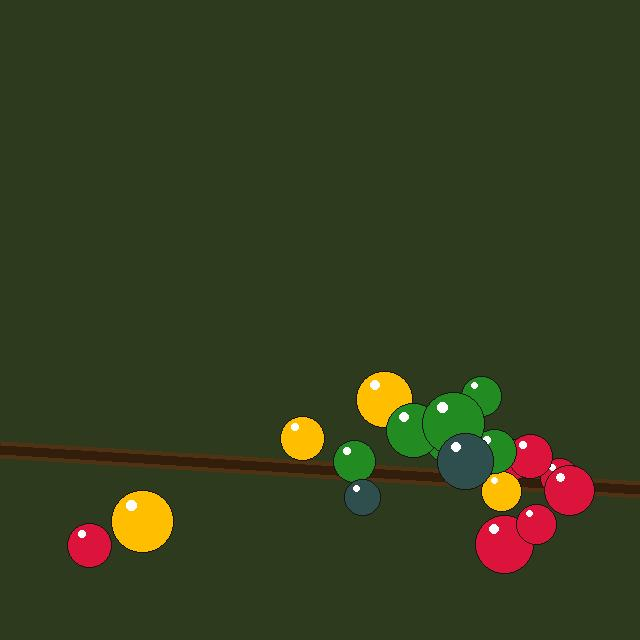Dry_Damaged: (437, 433, 493, 489), (344, 479, 380, 515)
Ripe: (475, 515, 533, 573), (544, 465, 594, 515), (67, 523, 111, 567), (508, 434, 552, 478), (494, 439, 534, 479), (516, 504, 556, 544), (540, 458, 578, 496)
Ripening: (111, 490, 173, 552), (356, 371, 412, 427), (280, 416, 324, 460), (481, 471, 521, 511)
Unripe: (422, 392, 484, 454), (424, 410, 478, 464), (386, 403, 440, 457), (472, 429, 516, 473), (333, 440, 375, 482), (461, 376, 501, 416)
